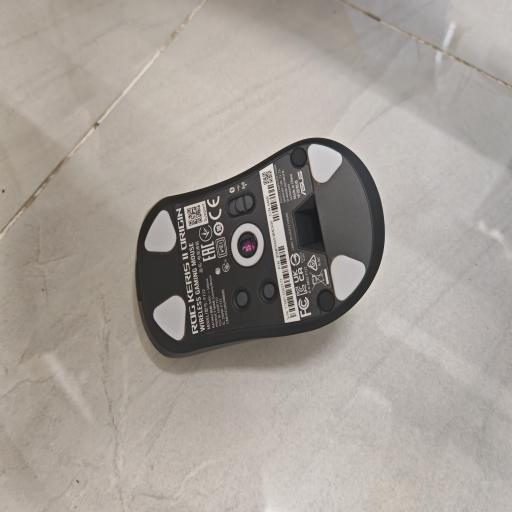mouse: (136, 139, 384, 356)
